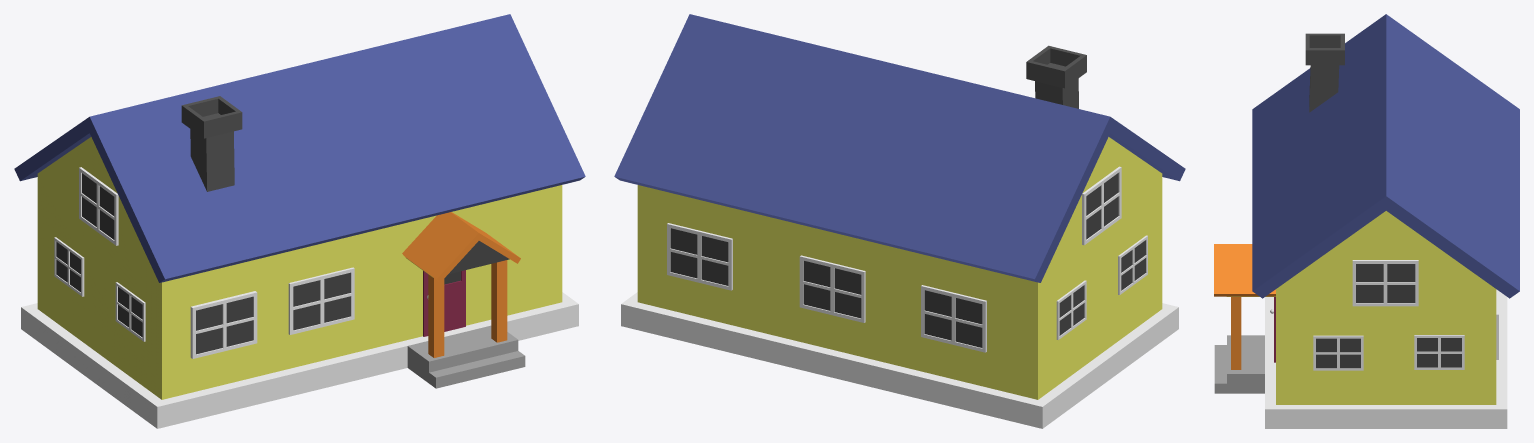
The model's file is House_2.fbx.
The picture shows the model from 3 angles, left to right: view 1: azimuth 30°, elevation 25°; view 2: azimuth 150°, elevation 25°; view 3: azimuth 270°, elevation 25°; orthographic projection. The views are drawn at different scales.
Visible parts, largest first — view 1: House_2; view 2: House_2; view 3: House_2.
Boxes of the visible parts, <box> form: House_2: <box>14,14,585,428</box>; House_2: <box>614,14,1185,428</box>; House_2: <box>1214,14,1519,428</box>.
Size of the model in its own units: 6.01 by 4.26 by 3.73.
